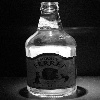beer: (25, 1, 80, 99)
